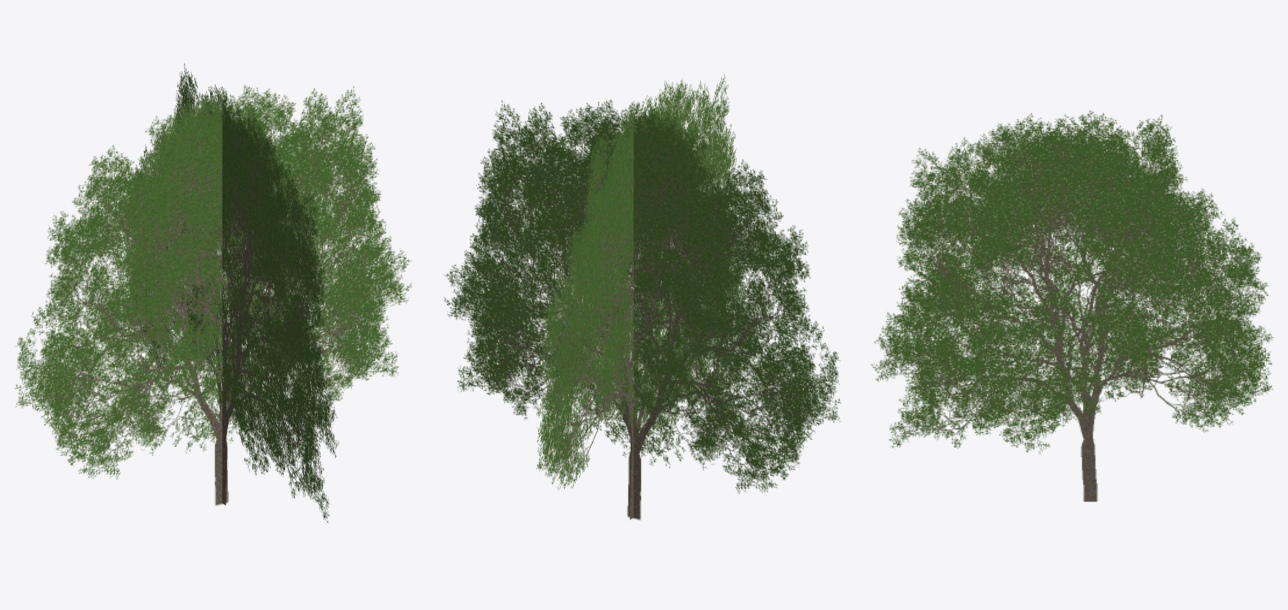
The model's file is QuercusAlba.glb.
The picture shows the model from 3 angles, left to right: view 1: azimuth 30°, elevation 25°; view 2: azimuth 150°, elevation 25°; view 3: azimuth 270°, elevation 25°; orthographic projection. The views are drawn at different scales.
Visible parts, largest first — view 1: mesh__mat_billboard_4; view 2: mesh__mat_billboard_4; view 3: mesh__mat_billboard_4.
Part boxes in pixels (x1,y1,x2,y2): mesh__mat_billboard_4: [15, 63, 411, 522]; mesh__mat_billboard_4: [444, 74, 840, 519]; mesh__mat_billboard_4: [871, 110, 1273, 501].
Bounding box in the file's own units: 27.26 × 27.7 × 25.42.
Materials: 1 (1 with a texture image).
